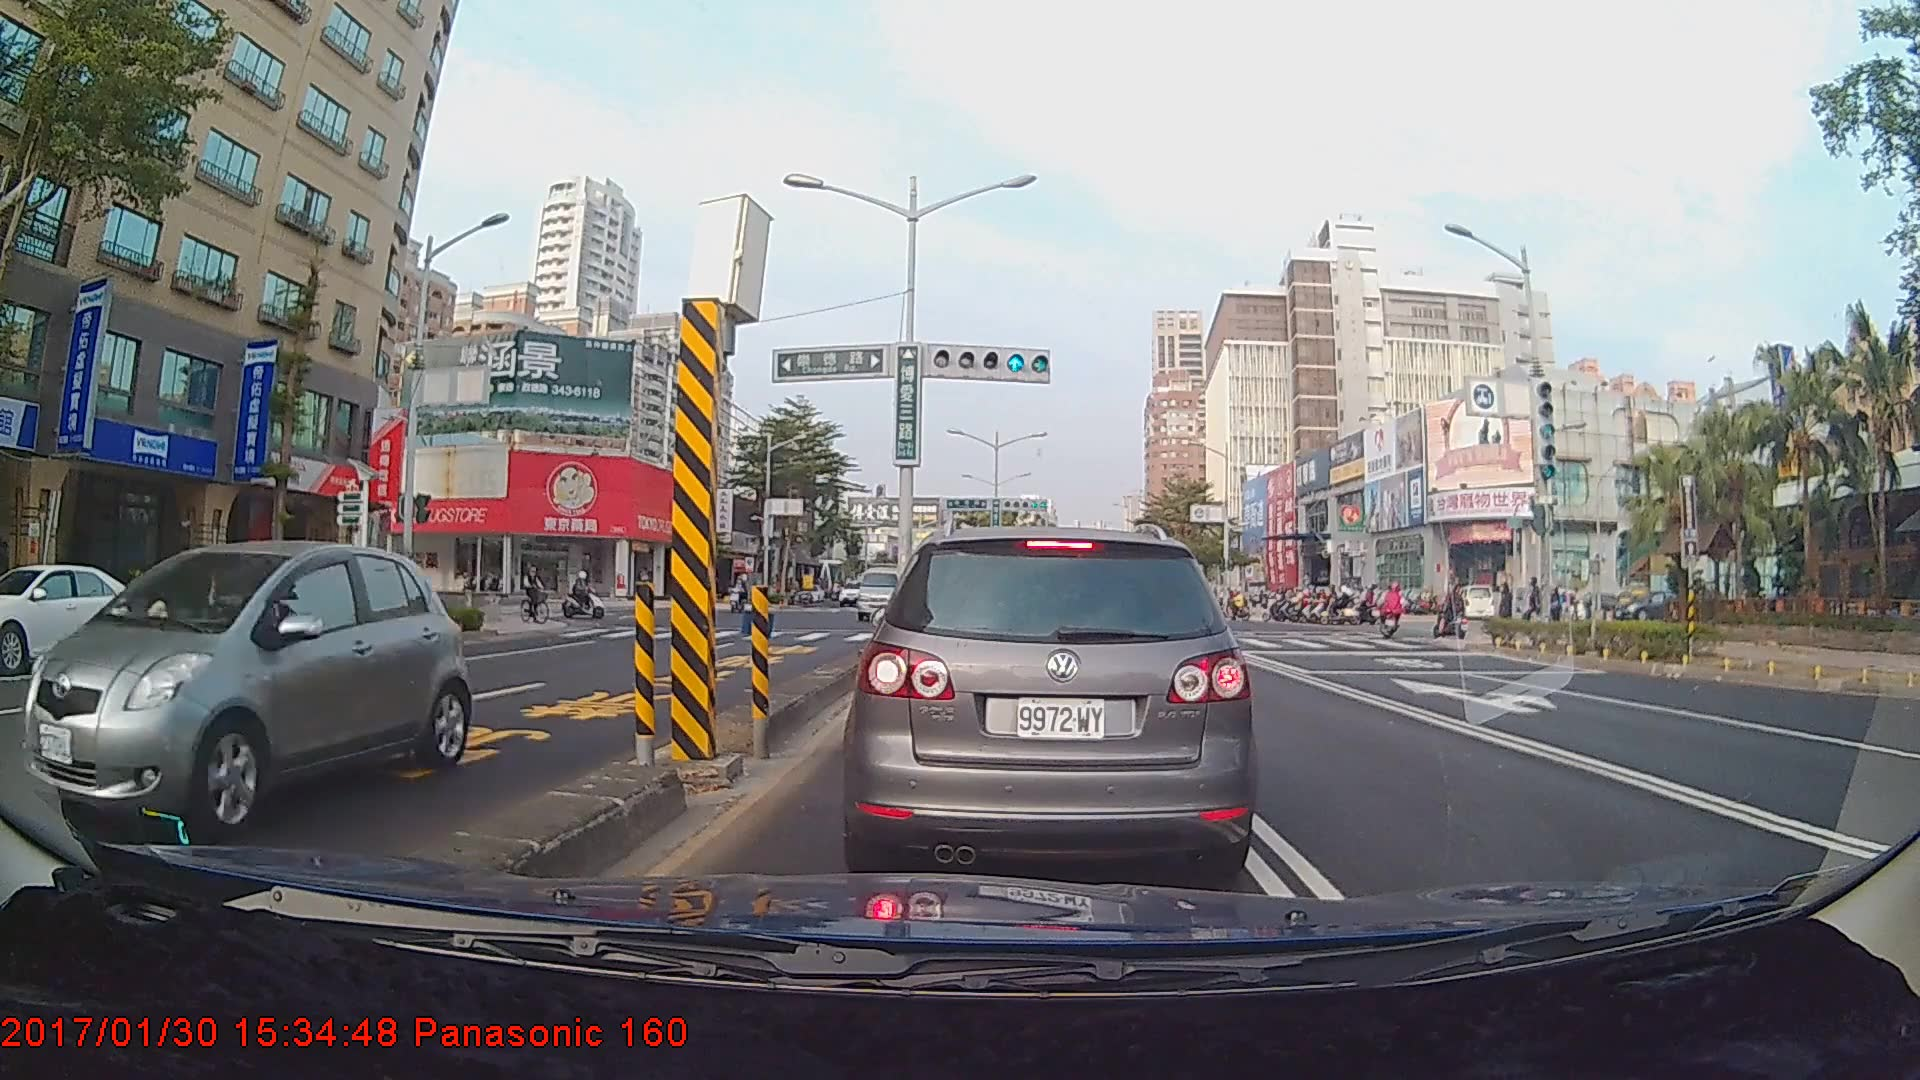pedestrian: (1494, 579, 1521, 637)
rider: (1436, 582, 1473, 646), (1382, 580, 1413, 640)
vehicle: (853, 522, 1251, 877), (17, 539, 471, 846), (0, 561, 158, 671), (853, 556, 910, 620)
